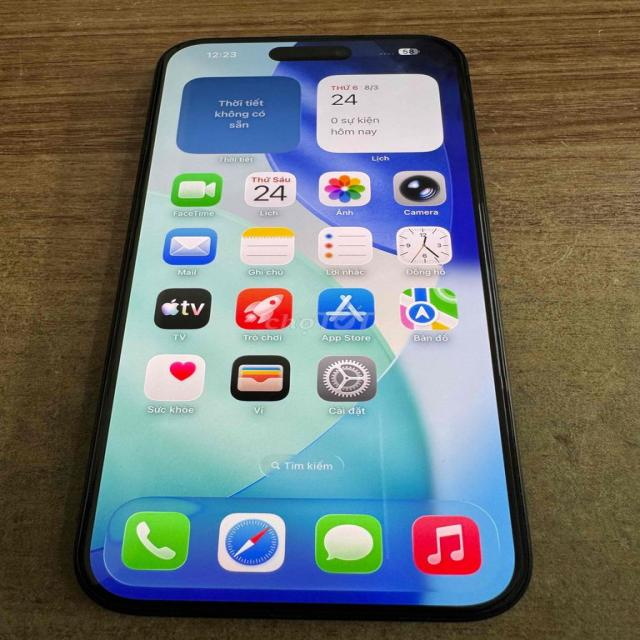gen_15: (73, 20, 547, 634)
